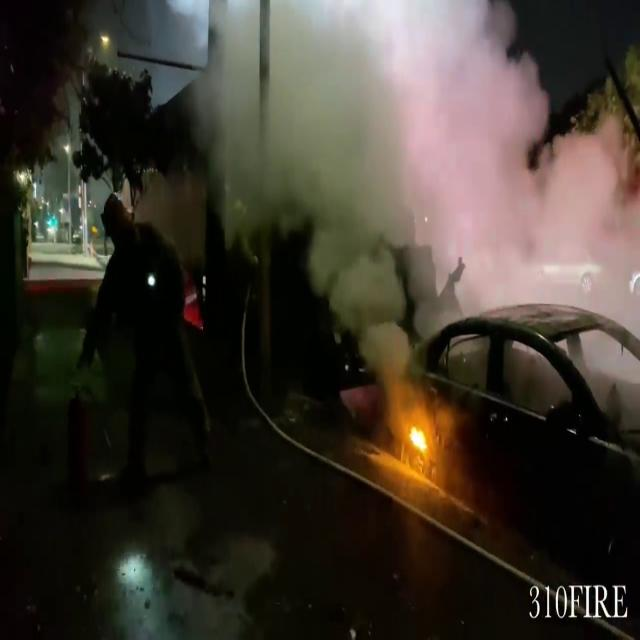Fire: (402, 407, 436, 469)
Smoke: (262, 0, 639, 309)
